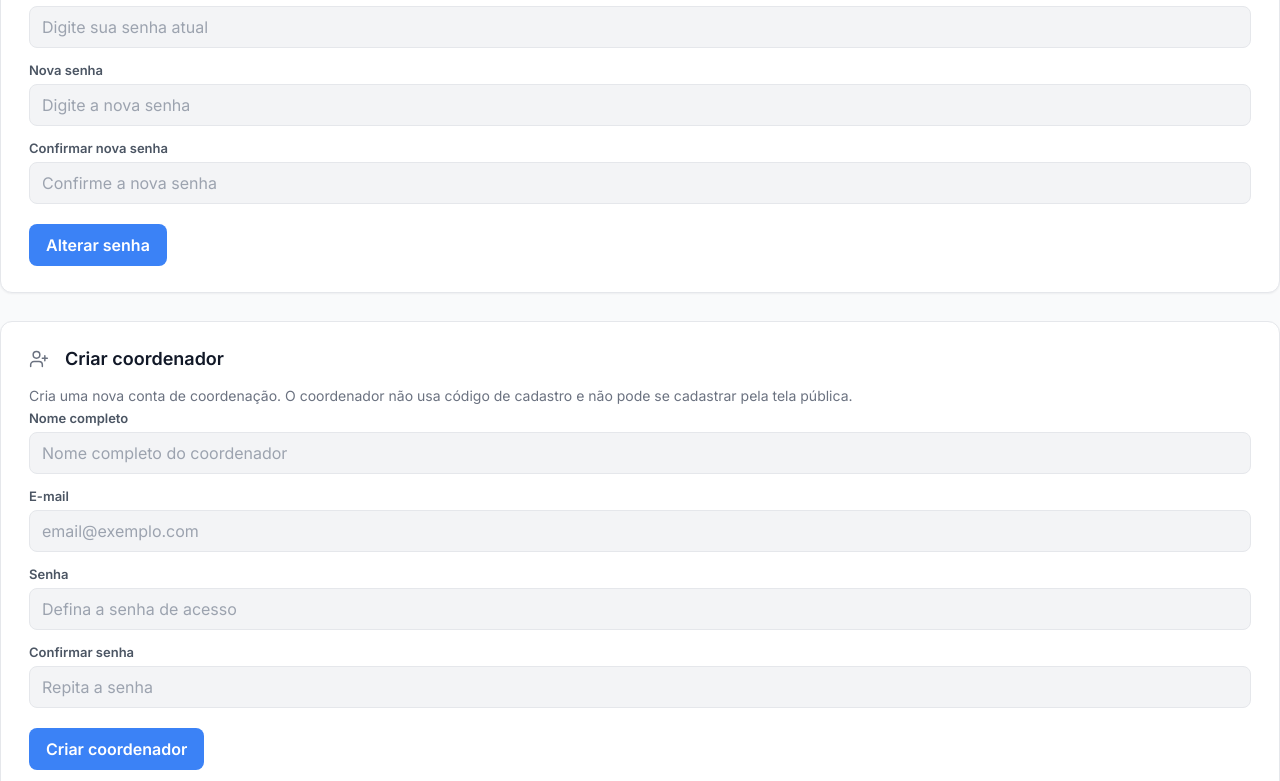
it: Envio do formulário › em caso de sucesso mostra confirmação e limpa as senhas
(page scrolled)
Type "Maria Coordenadora" into the field labelled "Nome completo" at (640,453), box 29,432 -> 1251,474
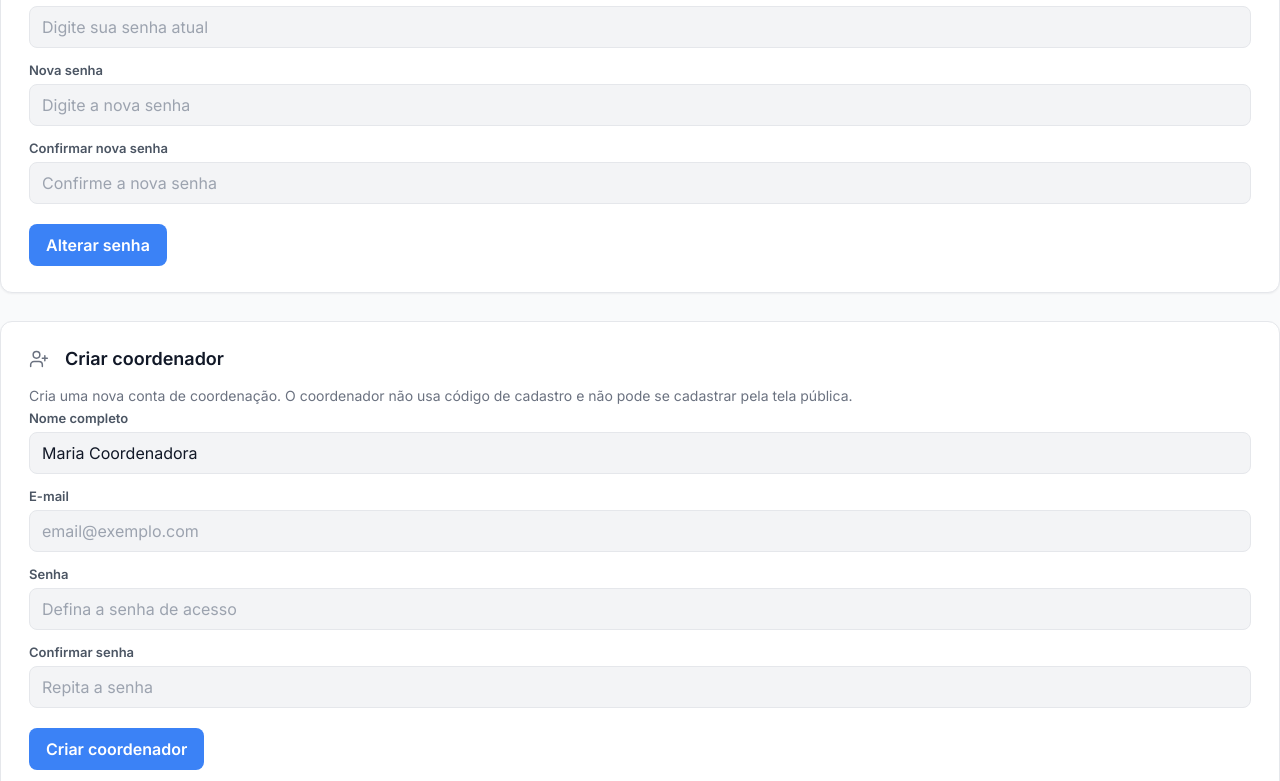
Type "maria@exemplo.com" into the field labelled "E-mail" at (640,531), box 29,510 -> 1251,552
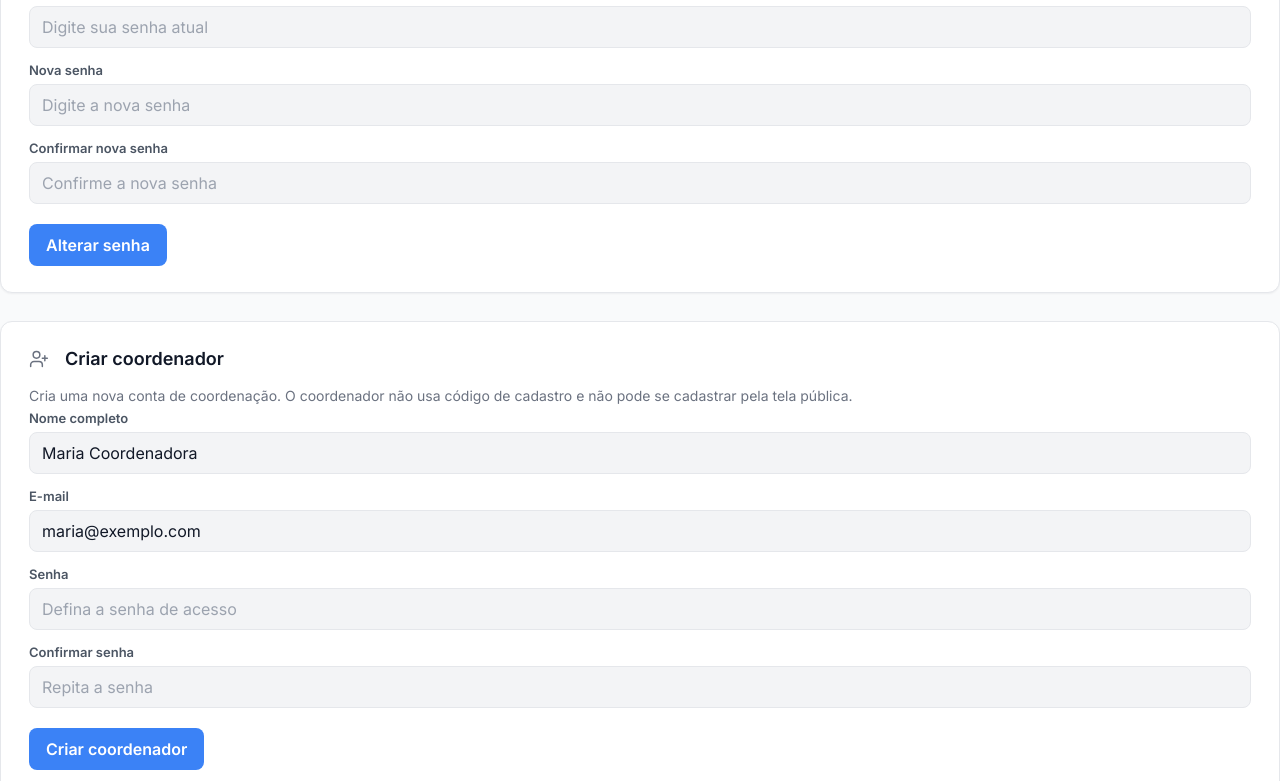
Type "senhaForte1" into the password field labelled "Senha" at (640,609), box 29,588 -> 1251,630
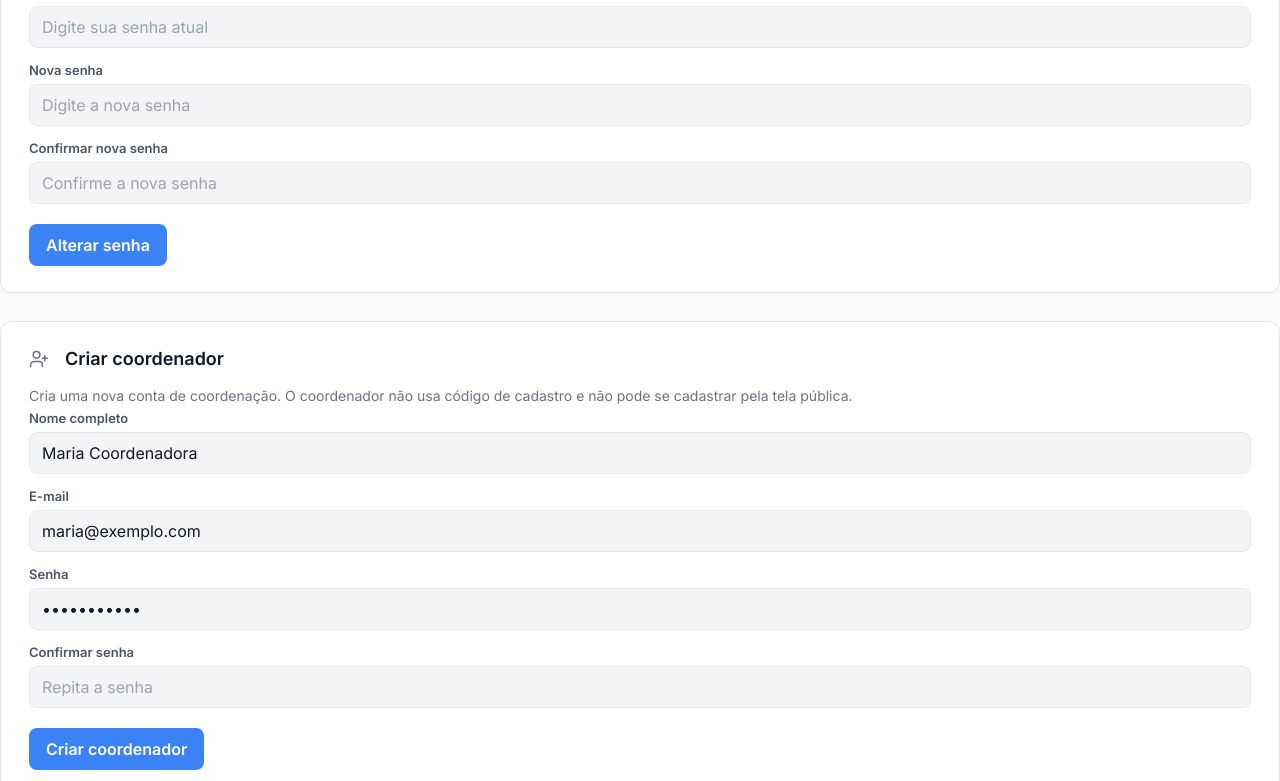
Type "senhaForte1" into the password field labelled "Confirmar senha" at (640,687), box 29,666 -> 1251,708
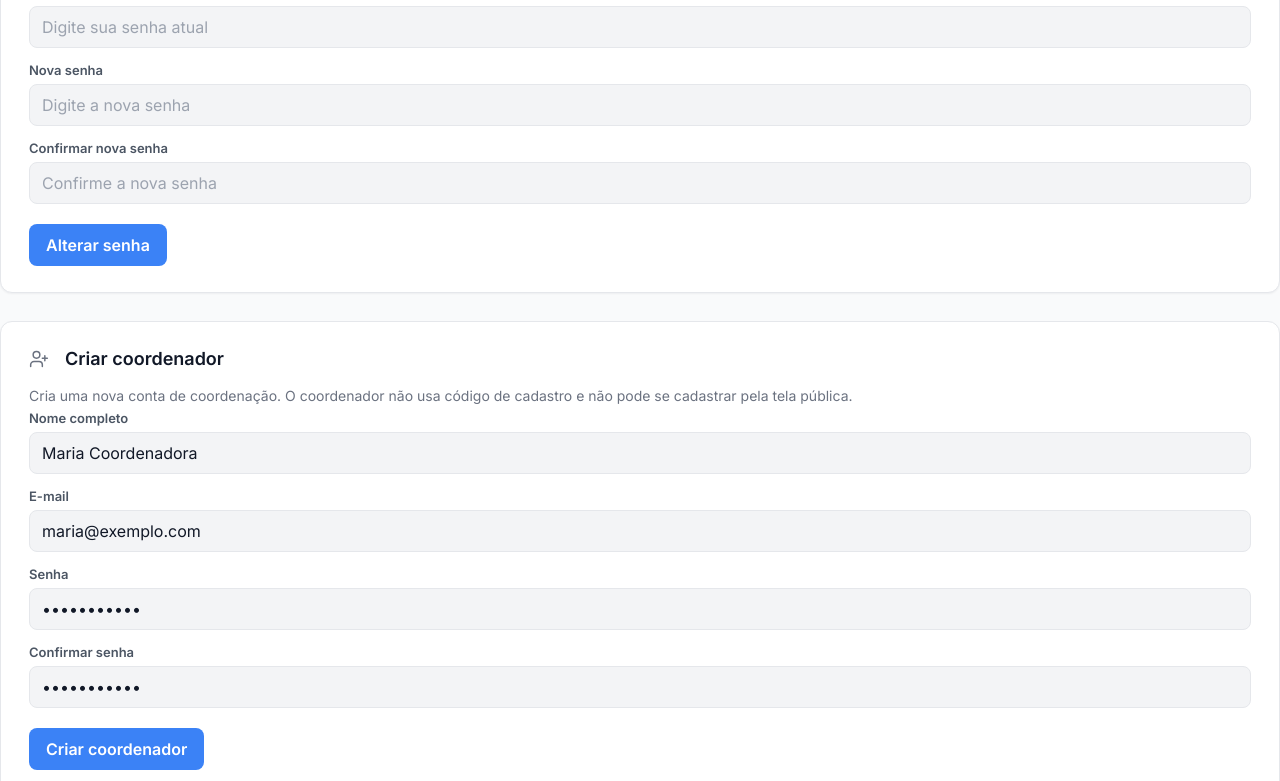
Click the button "Criar coordenador" at (117,749), box 29,728 -> 204,770
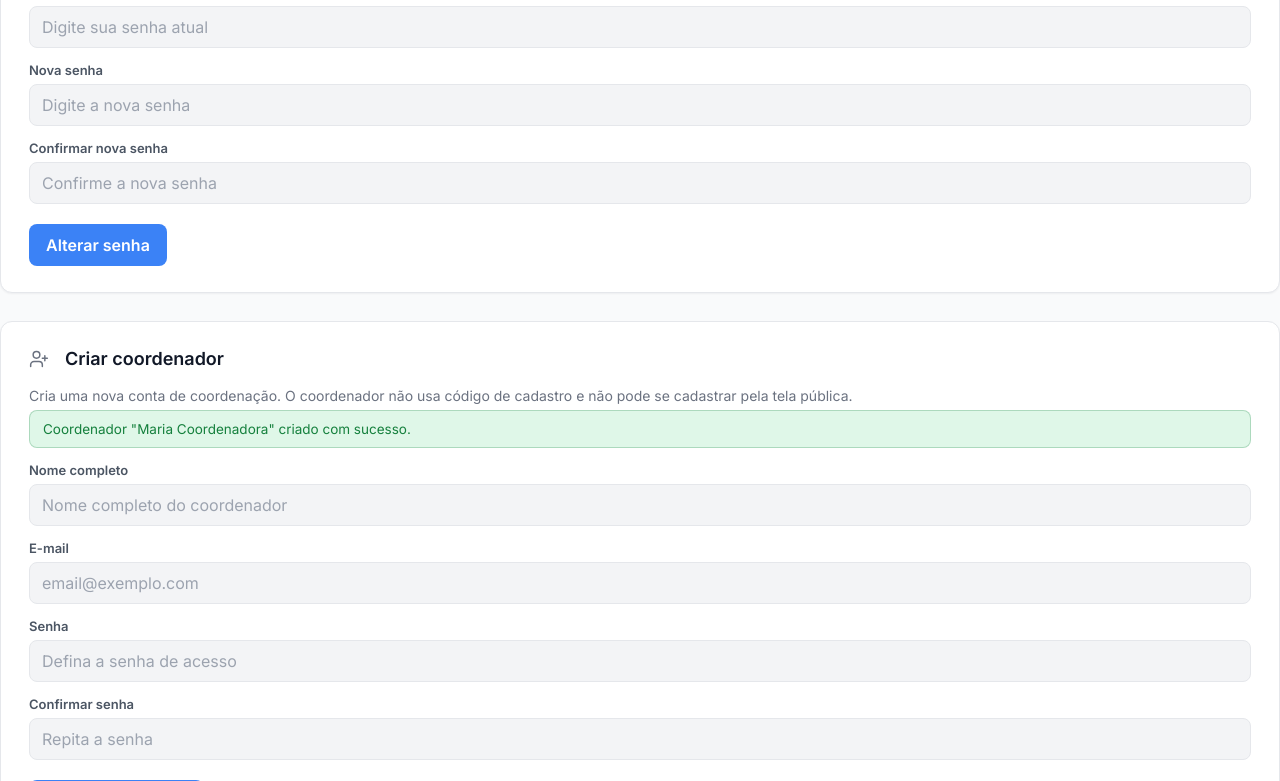
Check: the text "Coordenador \"Maria Coordenadora\" criado com sucesso." is shown, box 29,410 -> 1251,448
Check: the password field labelled "Senha" is empty, box 29,640 -> 1251,682
Check: the password field labelled "Confirmar senha" is empty, box 29,718 -> 1251,760
